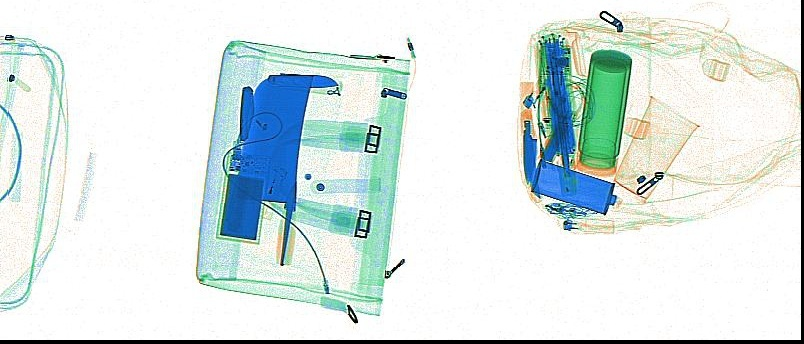knife: (238, 72, 314, 268), (518, 81, 539, 186), (265, 72, 340, 94), (238, 84, 255, 141)
lighter: (562, 216, 614, 232)
zippooil: (529, 157, 618, 215)
